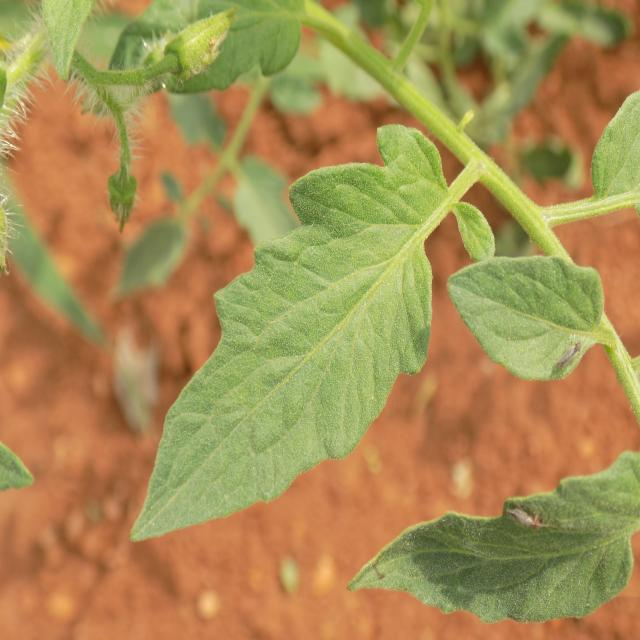tomato_healthy: (127, 128, 470, 542), (346, 450, 640, 626), (450, 253, 612, 384)
